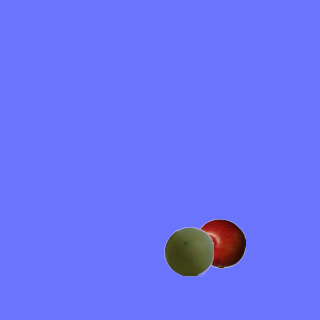Apple Braeburn: (195, 218, 245, 268)
Grape White 4: (163, 226, 213, 276)
